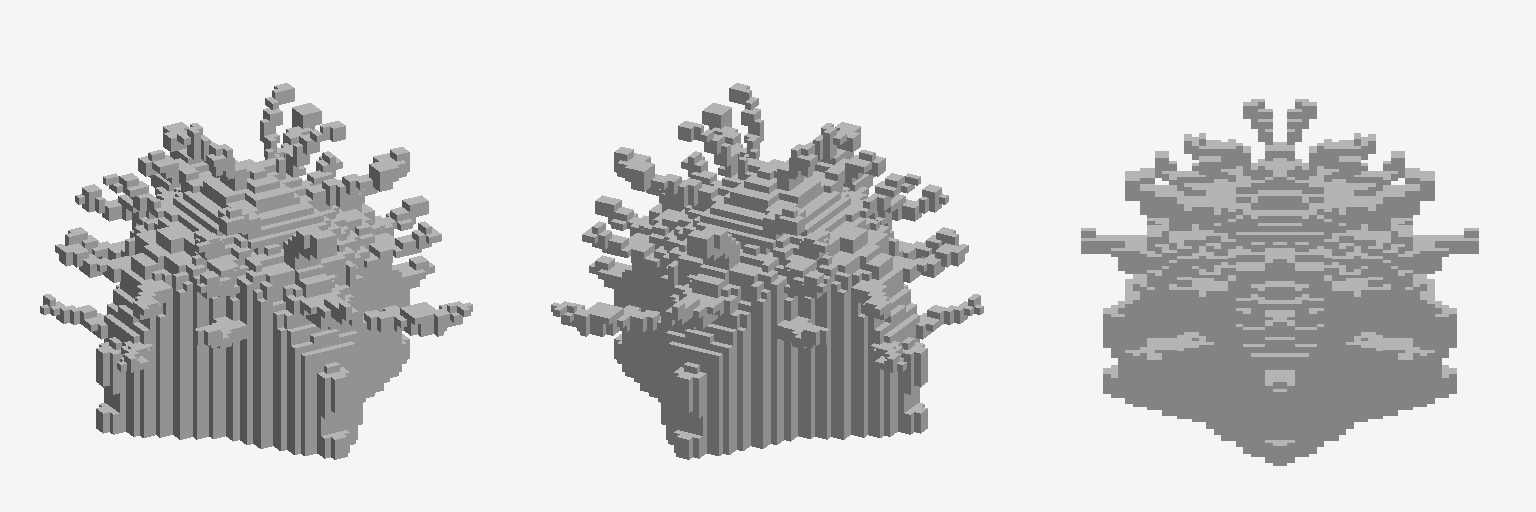
File: Explosion 6.obj
3 views of the same model, side by side, from view 1: azimuth 30°, elevation 25°; view 2: azimuth 150°, elevation 25°; view 3: azimuth 270°, elevation 25° (orthographic).
Visible parts, largest first — view 1: object 1; view 2: object 1; view 3: object 1.
Boxes of the visible parts, box(x1,y1,x2,y2) form: object 1: box(40, 83, 472, 459); object 1: box(551, 83, 983, 459); object 1: box(1081, 99, 1478, 465).
Size of the model in its own units: 5.5 by 4.1 by 5.4.